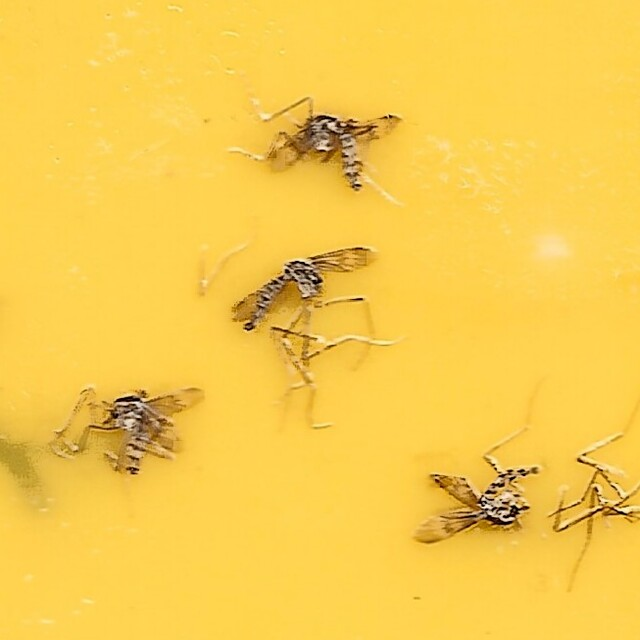Nematocera: (230, 244, 377, 365), (271, 95, 395, 194), (412, 464, 542, 545), (98, 385, 205, 482)
